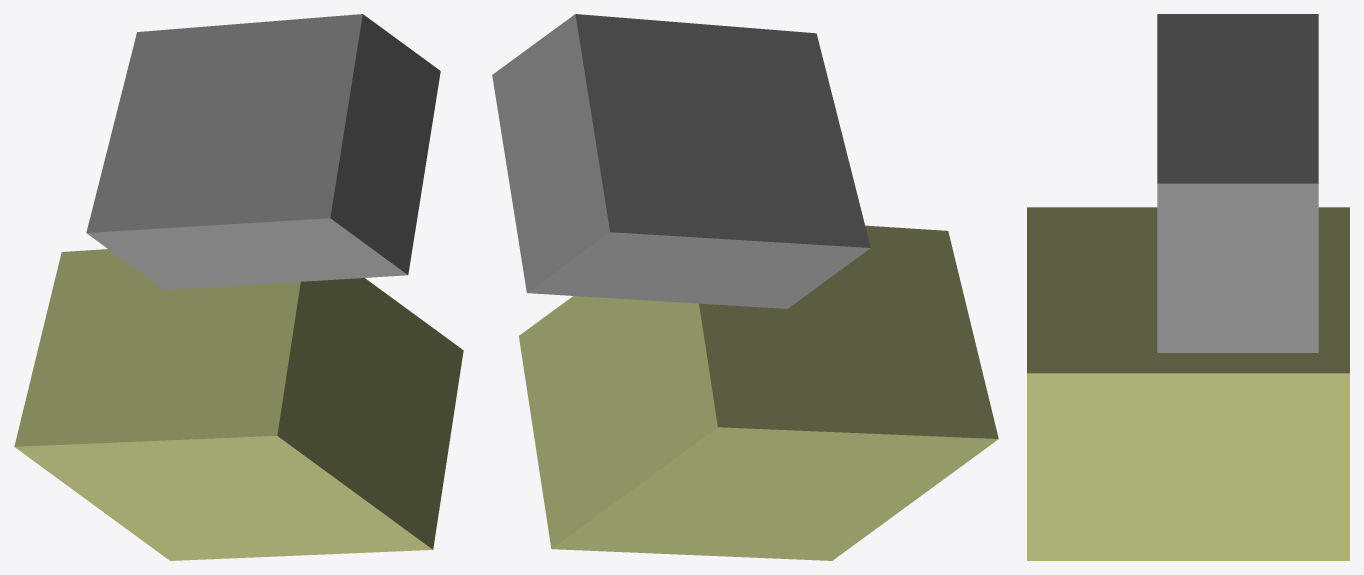
3 views of the same model, side by side, from view 1: azimuth 30°, elevation 25°; view 2: azimuth 150°, elevation 25°; view 3: azimuth 270°, elevation 25° (orthographic). The views are drawn at different scales.
Parts seen in each view (by area): view 1: 0_1_2_0_1_3_3_1_0_0_2; view 2: 0_1_2_0_1_3_3_1_0_0_2; view 3: 0_1_2_0_1_3_3_1_0_0_2.
Part boxes in pixels (left/top/right/bottom): 0_1_2_0_1_3_3_1_0_0_2: left=14, top=14, right=463, bottom=560; 0_1_2_0_1_3_3_1_0_0_2: left=492, top=14, right=998, bottom=560; 0_1_2_0_1_3_3_1_0_0_2: left=1027, top=14, right=1349, bottom=560.
Bounding box in the file's own units: 7.41 × 9.61 × 6.
